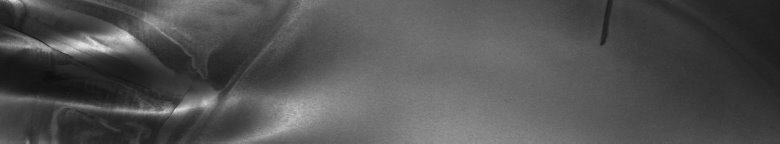ke: (4, 4, 294, 136)
